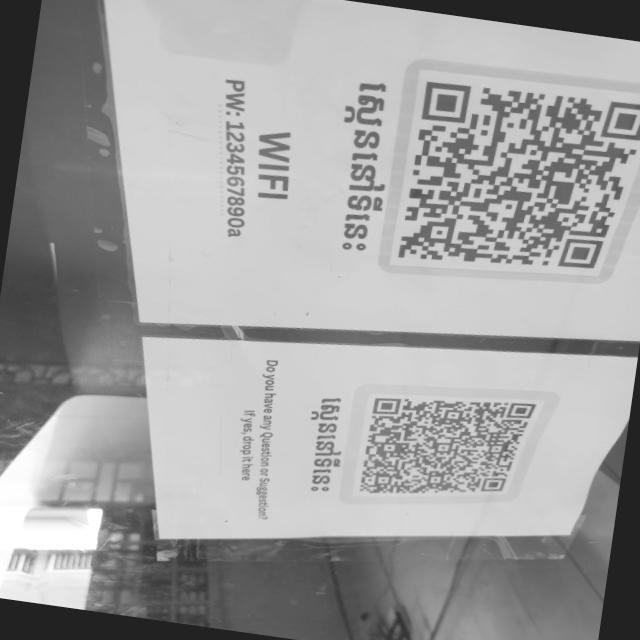Yolov11_80vkh: (320, 75, 404, 256), (295, 392, 354, 503)
